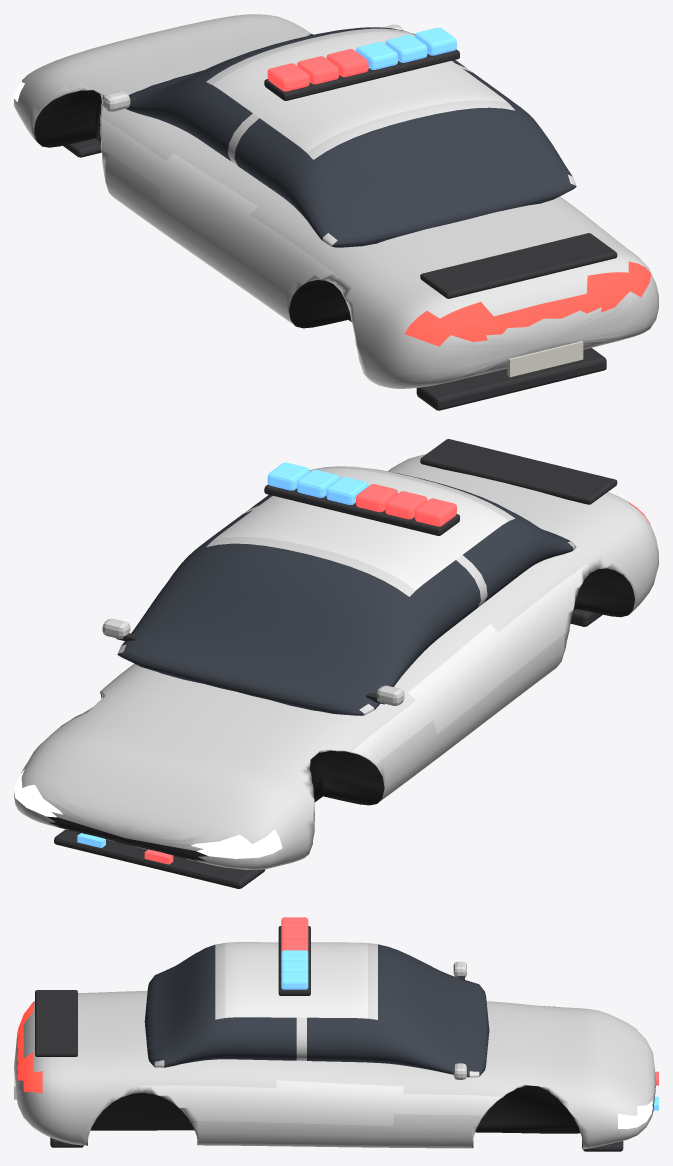
The model's file is police_patrol.glb.
3 renders of one model, top to bottom at view 1: azimuth 30°, elevation 25°; view 2: azimuth 150°, elevation 25°; view 3: azimuth 270°, elevation 25°, orthographic. The views are drawn at different scales.
Visible parts, largest first — view 1: police_patrol; view 2: police_patrol; view 3: police_patrol.
Part boxes in pixels (<box>): police_patrol: <box>14,14,658,410</box>; police_patrol: <box>14,439,658,888</box>; police_patrol: <box>14,917,658,1151</box>.
Bounding box in the file's own units: 1.94 × 1.38 × 4.79.
